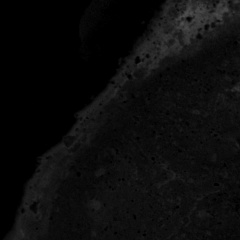Vegetation: (169, 1, 233, 20), (145, 33, 188, 51), (161, 20, 218, 33), (132, 48, 159, 67), (121, 62, 139, 77), (105, 84, 118, 97), (112, 74, 125, 86)
